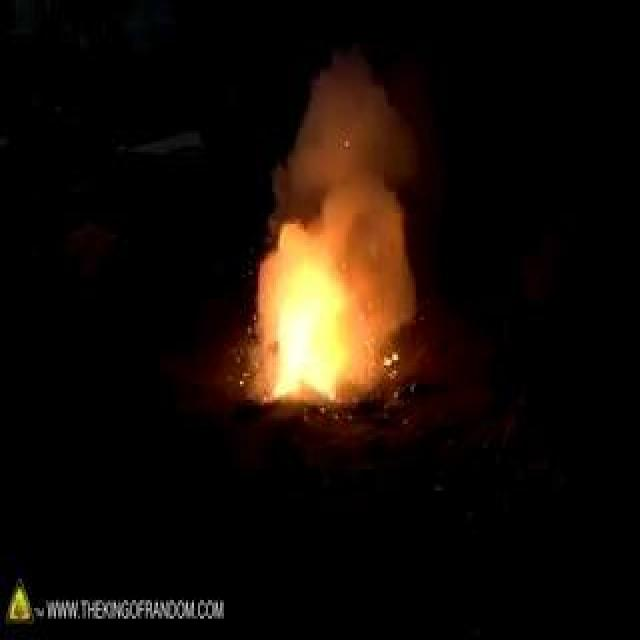Fire: (122, 158, 313, 338)
